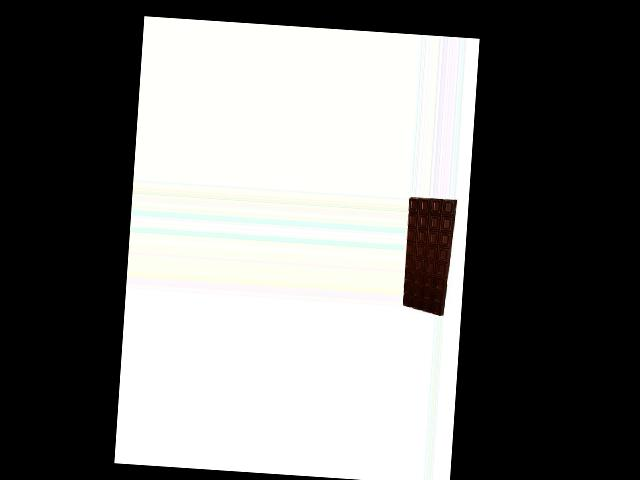chocolate: (401, 195, 455, 317)
